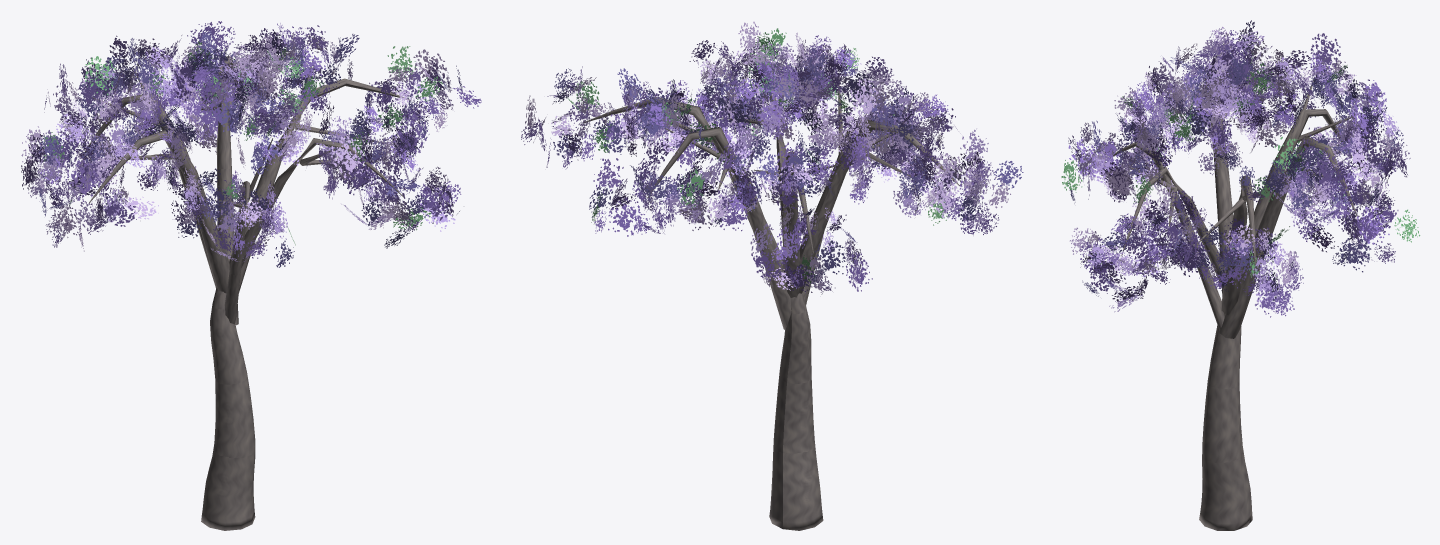
File: Tree_Jacaranda_01_Violet_LOD1.glb
3 views of the same model, side by side, from view 1: azimuth 30°, elevation 25°; view 2: azimuth 150°, elevation 25°; view 3: azimuth 270°, elevation 25° (orthographic). The views are drawn at different scales.
Visible parts, largest first — view 1: Tree_Jacaranda_01_Violet_LOD1; view 2: Tree_Jacaranda_01_Violet_LOD1; view 3: Tree_Jacaranda_01_Violet_LOD1.
Boxes of the visible parts, left/top/right/bottom form: Tree_Jacaranda_01_Violet_LOD1: left=21, top=21, right=481, bottom=530; Tree_Jacaranda_01_Violet_LOD1: left=521, top=21, right=1023, bottom=530; Tree_Jacaranda_01_Violet_LOD1: left=1061, top=20, right=1420, bottom=530.
Size of the model in its own units: 9.45 by 9.41 by 6.75.
Materials: 2 (2 with a texture image).
